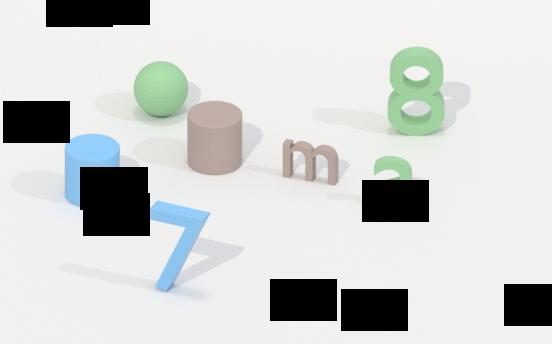7: (147, 195, 213, 294)
8: (385, 47, 446, 140)
a: (372, 155, 423, 216)
cau: (131, 56, 193, 121)
m: (276, 133, 343, 193)
tru: (183, 93, 249, 178), (61, 131, 127, 210)
